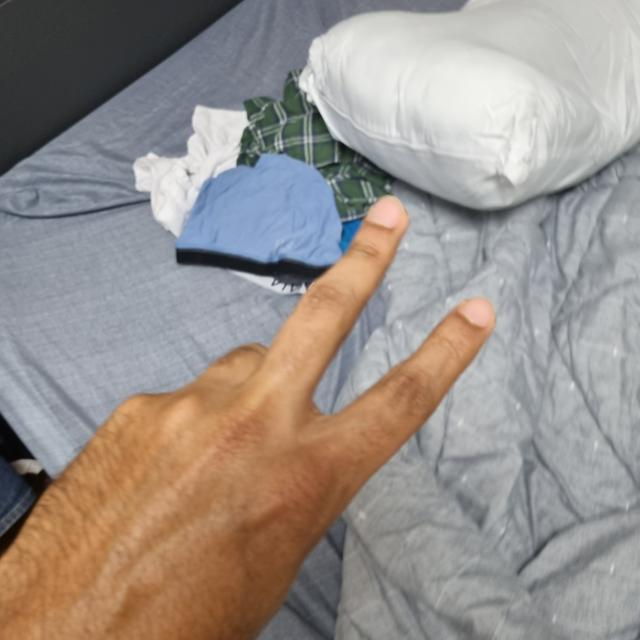Scissors: (0, 202, 496, 639)
